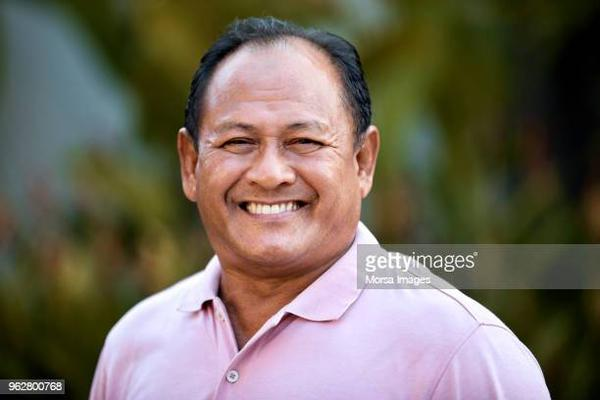Malay: (200, 77, 357, 261)
